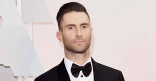male: (54, 3, 100, 59)
